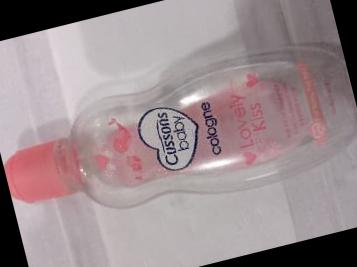Plastik: (4, 45, 355, 207)
